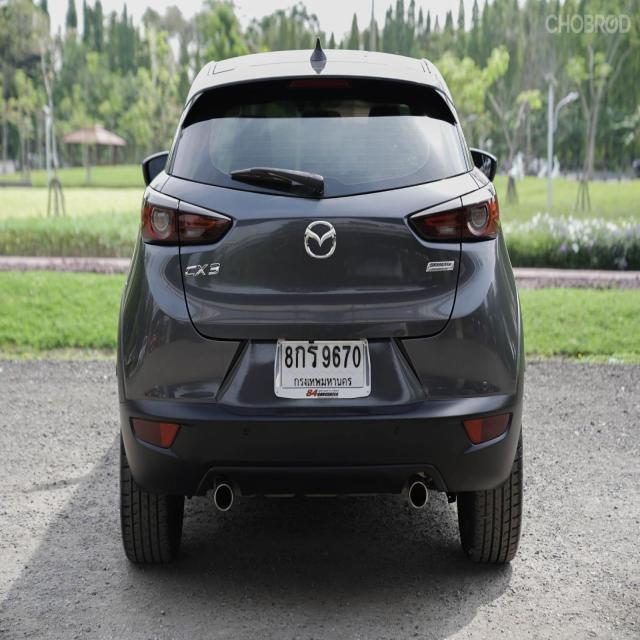license_plate: (266, 332, 383, 411)
